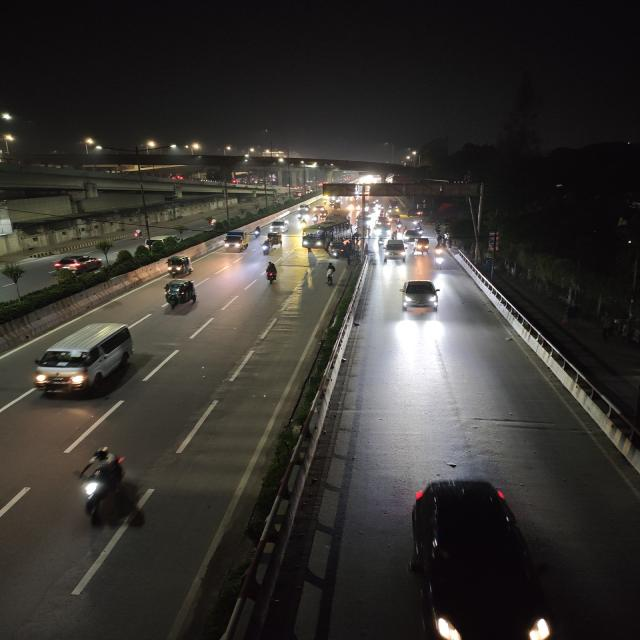bus: (301, 222, 339, 250)
car: (397, 469, 557, 640), (25, 317, 145, 402), (396, 278, 446, 314), (45, 253, 105, 279), (381, 238, 409, 264), (266, 218, 290, 234)
cng: (156, 277, 202, 315), (162, 253, 196, 278), (413, 237, 431, 255)
motorcycle: (69, 444, 133, 528), (262, 260, 282, 286), (430, 249, 448, 271), (259, 240, 272, 257), (251, 226, 263, 238)
pedestrian: (323, 262, 337, 288)
truck: (224, 230, 252, 252)
